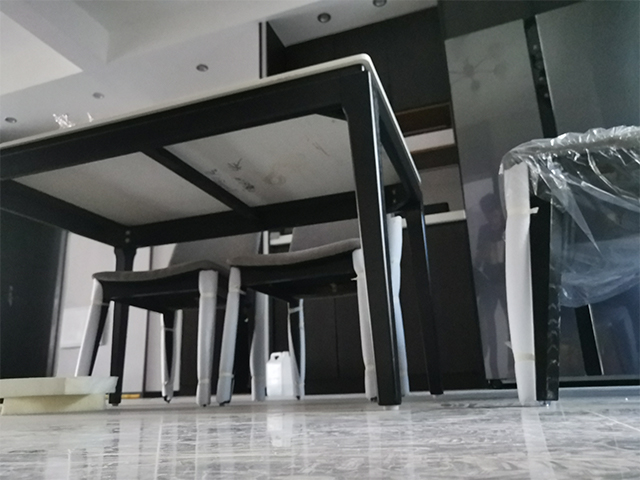stool: (494, 122, 640, 403), (221, 217, 410, 405), (73, 234, 271, 408)
table: (1, 51, 446, 407)
